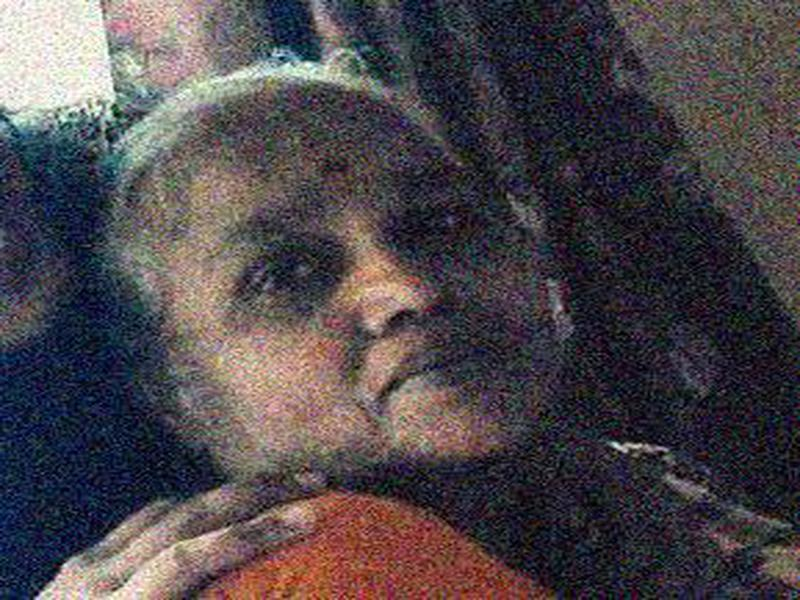without_mask: (123, 119, 553, 474)
